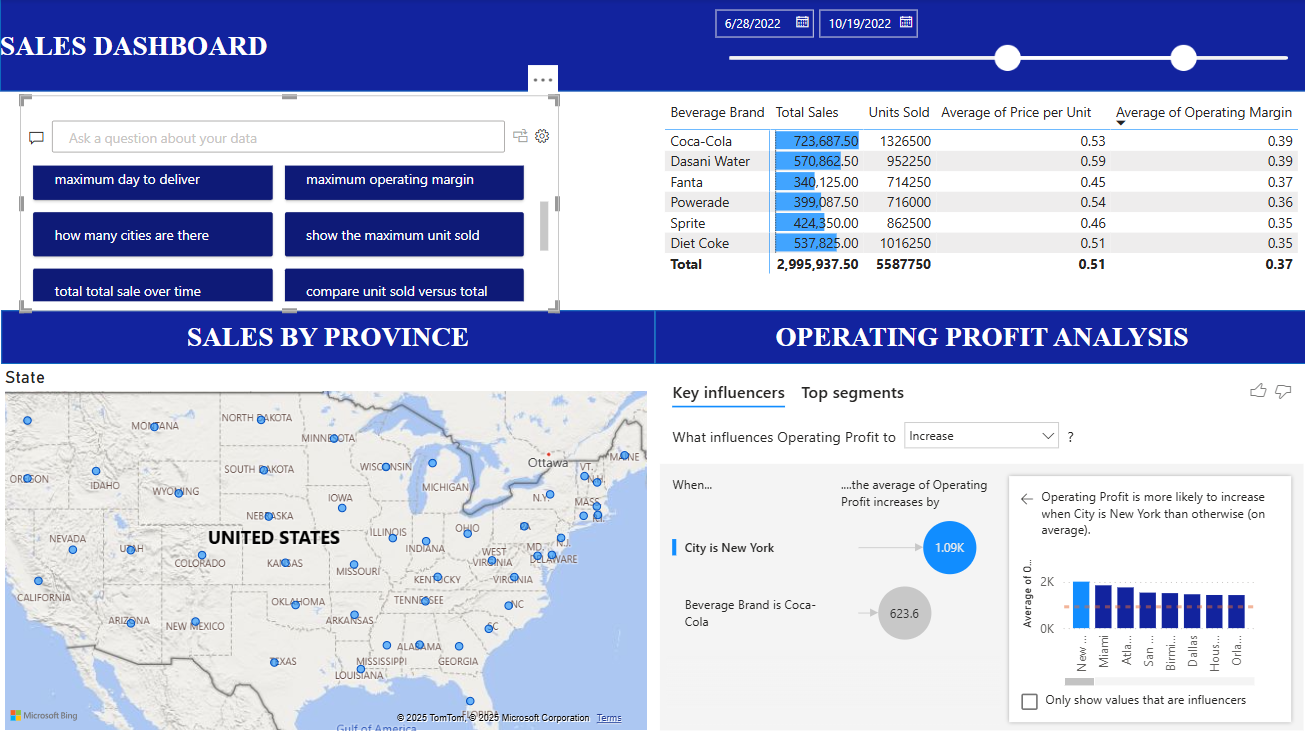

What the dashboard file says about the page in this screenshot:
{"tool":"powerbi","page":{"name":"Page 1","canvas":[1280,720],"ordinal":0},"visuals":[{"type":"shape","box":[0,0,1280.3,90.5],"z":0},{"type":"qnaVisual","box":[0,90.5,637.1,211.6],"z":1000},{"type":"shape","box":[640.5,304.5,639.5,52.6],"z":2000},{"type":"shape","box":[1.2,304.5,639.5,52.6],"z":3000},{"type":"map","fields":{"Category":["Data.State"]},"box":[0,359.5,638.3,360.7],"z":4000},{"type":"pivotTable","fields":{"Rows":["Data.Beverage Brand"],"Values":["Sum(Data.Total Sales)","Sum(Data.Units Sold)","Avg(Data.Price per Unit)","Avg(Data.Operating Margin)"]},"box":[645.7,94.2,634.7,195.7],"z":5000},{"type":"keyDriversVisual","fields":{"ExplainBy":["Data.City","Data.Beverage Brand"],"Target":["Data.Operating Profit"]},"box":[640.8,359.5,639.5,360.7],"z":6000},{"type":"slicer","fields":{"Values":["Data.Invoice Date"]},"box":[686.7,0,593.6,90.3],"z":7000}]}

Visuals, with their boxes in screenshot pixels (x1, y1, x2, y2), scaled from the page's 1280x720 canvas onto the 1305x734 screenshot:
shape: Rect(0, 0, 1304, 92)
qnaVisual: Rect(0, 92, 650, 308)
shape: Rect(653, 310, 1304, 364)
shape: Rect(1, 310, 653, 364)
map - Data.State: Rect(0, 366, 651, 733)
pivotTable - Data.Beverage Brand x Sum(Data.Total Sales): Rect(658, 96, 1304, 296)
keyDriversVisual - Data.City x Data.Beverage Brand: Rect(653, 366, 1304, 733)
slicer - Data.Invoice Date: Rect(700, 0, 1304, 92)
